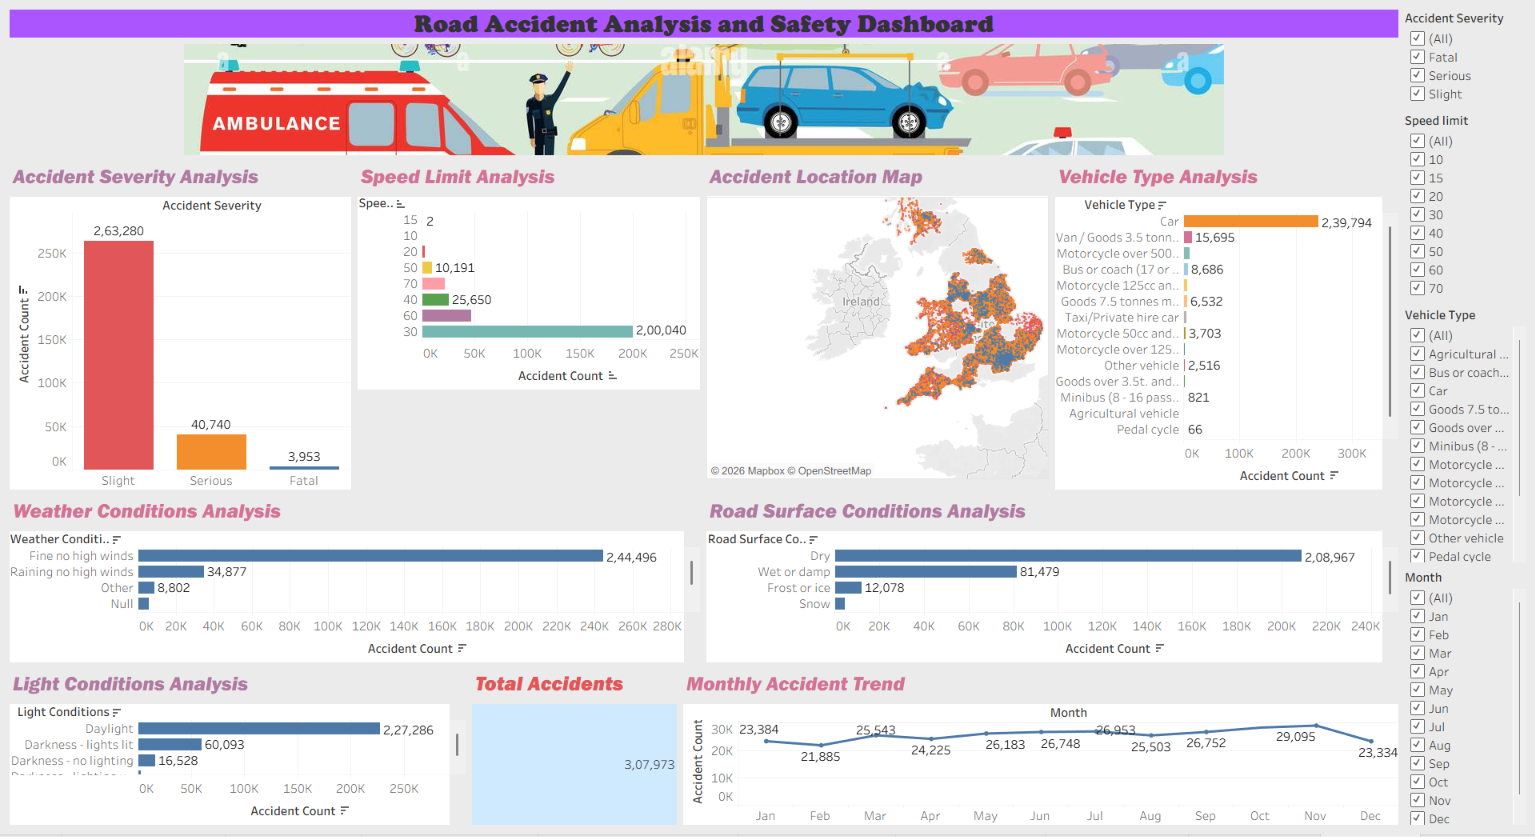

This screenshot's page, from the dashboard's own definition file:
{"tool":"tableau","page":{"name":"Dashboard 1","canvas":[1000,1000],"units":"permille","ordinal":0},"visuals":[{"type":"title","box":[4.8,9.1,893.8,49]},{"type":"filter","title":"Accident Severity Analysis","param":"[federated.1lkahyi0n99o270zscq9u0rj0c2a].[none:Accident_Severity:nk]","box":[898.6,9.1,96.6,146]},{"type":"image","param":"Image/traffic.jpg","box":[4.8,58.1,893.8,167.6]},{"type":"filter","title":"Speed Limit Analysis","param":"[federated.1lkahyi0n99o270zscq9u0rj0c2a].[none:Speed_limit:ok]","box":[898.6,155.1,96.6,277.1]},{"type":"worksheet","title":"Accident Severity Analysis","mark":"Automatic","rows":["Calculation_0731756490547201"],"cols":["Accident_Severity"],"box":[4.8,225.8,223.1,382]},{"type":"worksheet","title":"Speed Limit Analysis","mark":"Automatic","rows":["Speed_limit"],"cols":["Calculation_0731756490547201"],"box":[227.9,225.8,223.5,382]},{"type":"worksheet","title":"Accident Location Map","mark":"Automatic","rows":["Latitude"],"cols":["Longitude"],"box":[451.4,225.8,223.5,382.1]},{"type":"worksheet","title":"Vehicle Type Analysis","mark":"Automatic","rows":["Vehicle_Type"],"cols":["Calculation_0731756490547201"],"box":[674.8,225.8,223.8,382.1]},{"type":"filter","title":"Vehicle Type Analysis","param":"[federated.1lkahyi0n99o270zscq9u0rj0c2a].[none:Vehicle_Type:nk]","box":[898.6,432.2,96.6,279.4]},{"type":"worksheet","title":"Weather Conditions Analysis","mark":"Automatic","rows":["Weather_Conditions"],"cols":["Calculation_0731756490547201"],"box":[4.8,607.8,446.5,197.2]},{"type":"worksheet","title":"Road Surface Conditions Analysis","mark":"Automatic","rows":["Road_Surface_Conditions"],"cols":["Calculation_0731756490547201"],"box":[451.4,607.9,447.3,197]},{"type":"filter","title":"Monthly Accident Trend","param":"[federated.1lkahyi0n99o270zscq9u0rj0c2a].[none:Month:nk]","box":[898.6,711.5,96.6,279.4]},{"type":"worksheet","title":"Light Conditions Analysis","mark":"Automatic","rows":["Light_Conditions"],"cols":["Calculation_0731756490547201"],"box":[4.8,804.9,296,186]},{"type":"worksheet","title":"Total Accidents","mark":"Automatic","box":[300.9,804.9,135.6,186]},{"type":"worksheet","title":"Monthly Accident Trend","mark":"Line","rows":["Calculation_0731756490547201"],"cols":["Month"],"box":[436.4,804.9,462.2,186]}]}

Visuals, with their boxes on the dashboard's canvas, which has no fixed pixel size, in thousandths of its width and height (x1, y1, x2, y2). These are canvas units, not pixel positions in the 1535x837 screenshot, which may show the page scaled, cropped or inside an application window:
title: [5, 9, 899, 58]
"Accident Severity Analysis" filter: [899, 9, 995, 155]
image: [5, 58, 899, 226]
"Speed Limit Analysis" filter: [899, 155, 995, 432]
"Accident Severity Analysis" worksheet: [5, 226, 228, 608]
"Speed Limit Analysis" worksheet: [228, 226, 451, 608]
"Accident Location Map" worksheet: [451, 226, 675, 608]
"Vehicle Type Analysis" worksheet: [675, 226, 899, 608]
"Vehicle Type Analysis" filter: [899, 432, 995, 712]
"Weather Conditions Analysis" worksheet: [5, 608, 451, 805]
"Road Surface Conditions Analysis" worksheet: [451, 608, 899, 805]
"Monthly Accident Trend" filter: [899, 712, 995, 991]
"Light Conditions Analysis" worksheet: [5, 805, 301, 991]
"Total Accidents" worksheet: [301, 805, 436, 991]
"Monthly Accident Trend" worksheet (Line marks): [436, 805, 899, 991]
